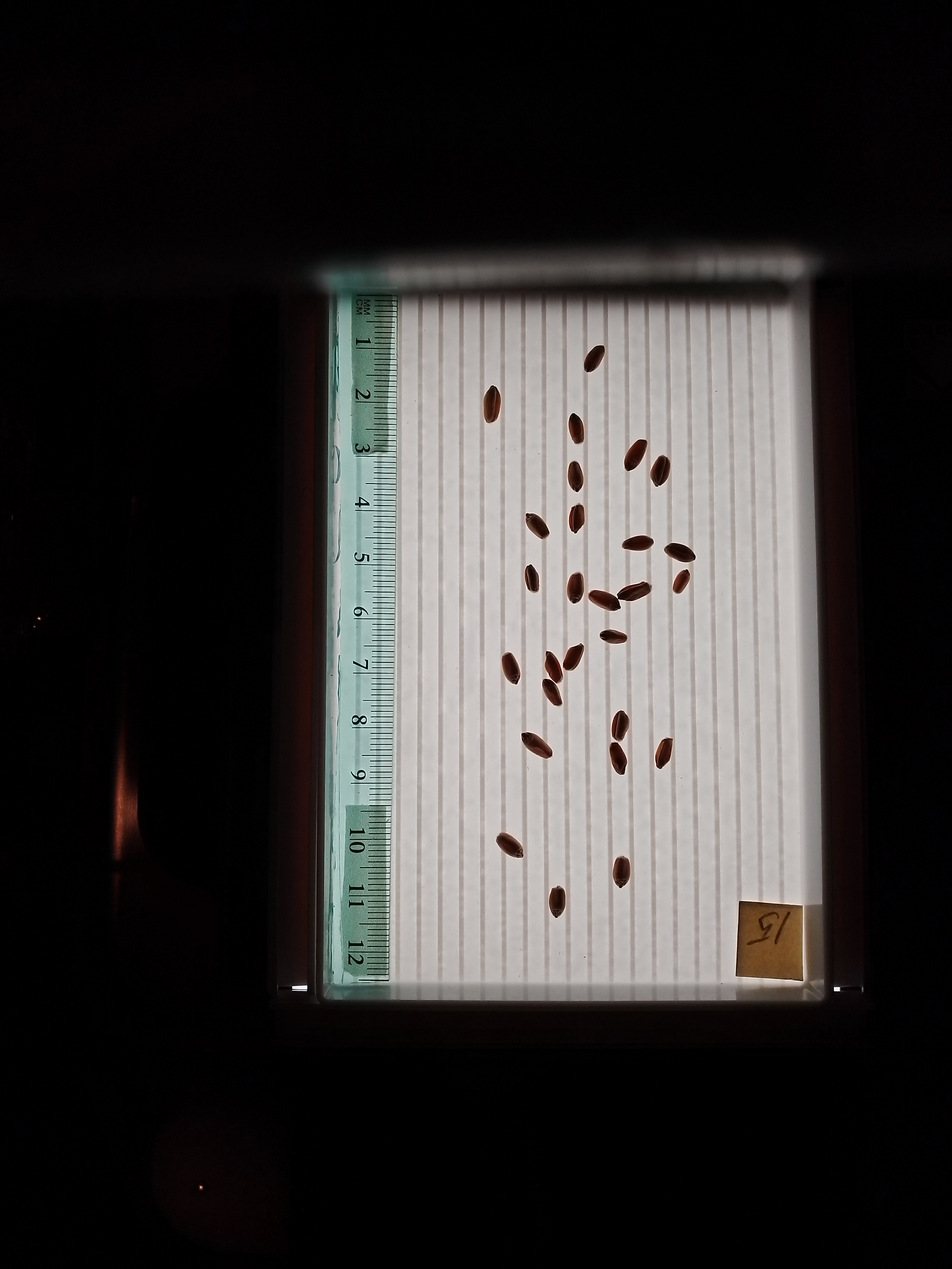seed mask: (521, 732, 552, 759), (625, 439, 647, 471), (589, 590, 620, 611), (497, 833, 523, 858), (484, 387, 501, 423), (619, 582, 651, 601), (526, 513, 549, 539), (665, 543, 695, 562), (655, 738, 673, 769), (651, 457, 670, 486), (544, 653, 563, 682), (564, 645, 584, 672), (502, 654, 520, 684), (611, 711, 629, 741), (613, 857, 631, 887), (567, 461, 584, 492), (610, 743, 627, 774), (543, 679, 562, 706), (568, 414, 585, 444), (585, 347, 605, 372), (567, 574, 584, 603), (624, 536, 653, 552), (550, 887, 565, 917), (569, 505, 585, 533), (601, 629, 626, 645), (673, 571, 690, 594), (525, 566, 539, 593)
